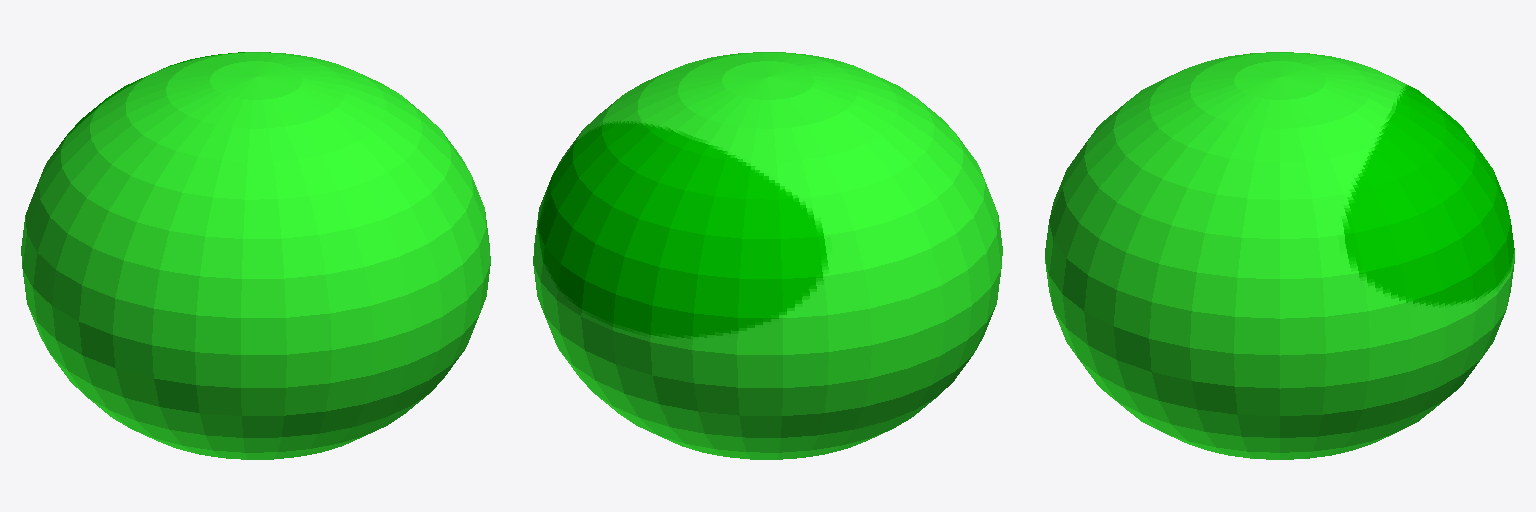
The picture shows the model from 3 angles: view 1: azimuth 30°, elevation 25°; view 2: azimuth 150°, elevation 25°; view 3: azimuth 270°, elevation 25°; orthographic projection.
Visible parts, largest first — view 1: 球; view 2: 球; view 3: 球.
Part boxes in pixels (bbox=[...]): 球: bbox=[21, 52, 490, 459]; 球: bbox=[533, 52, 1002, 459]; 球: bbox=[1045, 52, 1514, 459].
Bounding box in the file's own units: 1 × 0.8383 × 1.
Materials: 1 (1 with a texture image).